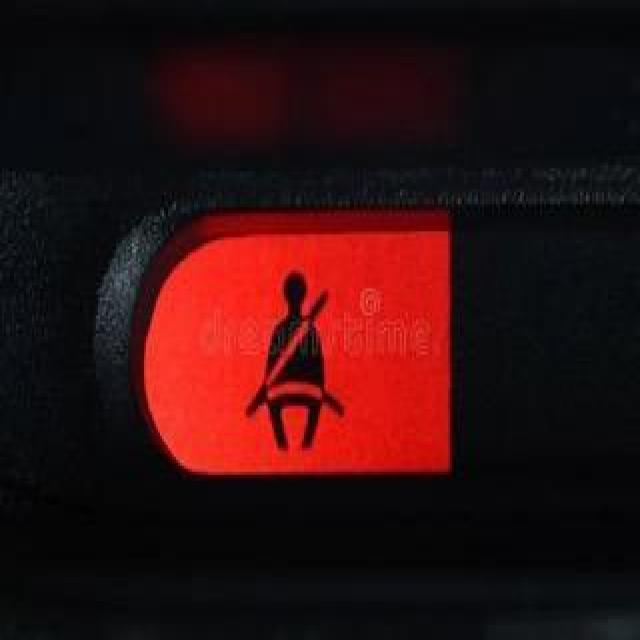kontrolka: (242, 262, 357, 457)
